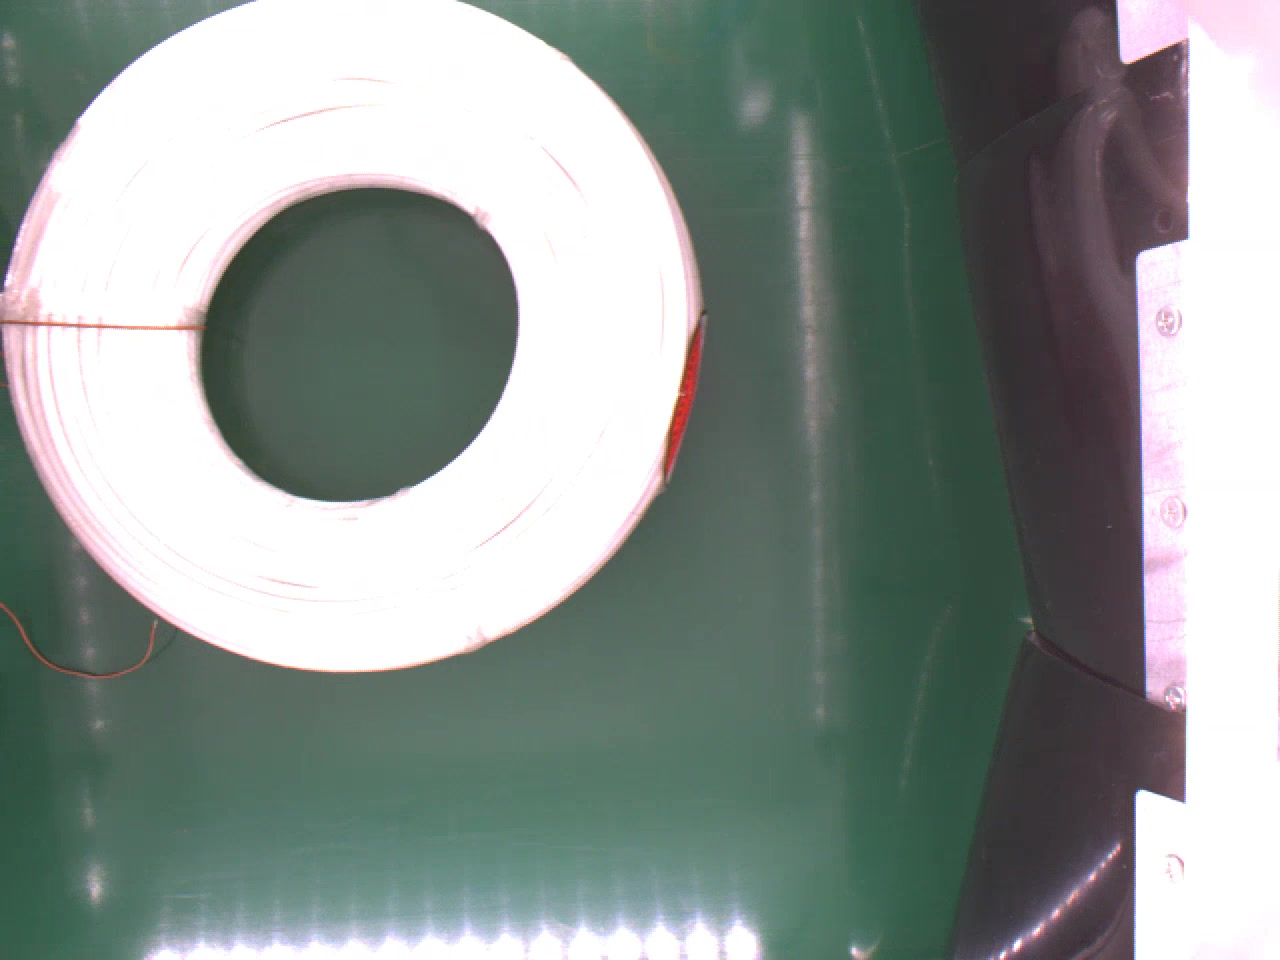white: (0, 0, 703, 674)
